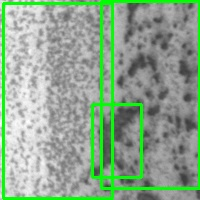patches: (92, 104, 141, 177)
pitted_surface: (3, 3, 112, 198), (101, 1, 199, 188)
